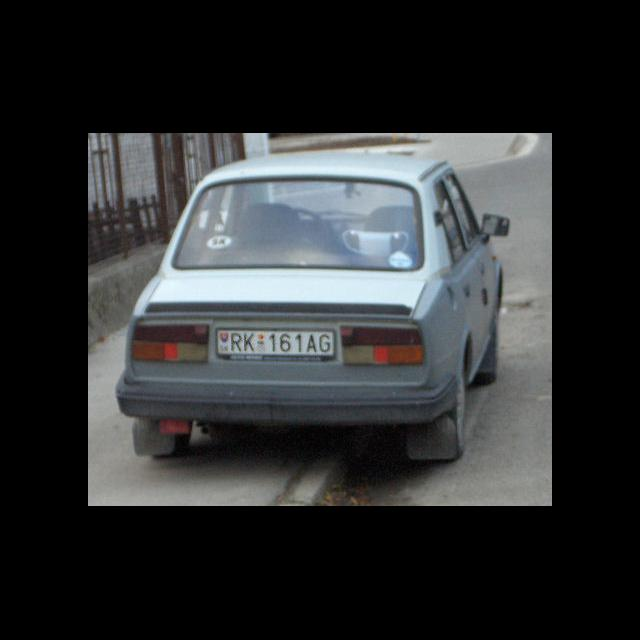Plate: (214, 326, 336, 360)
